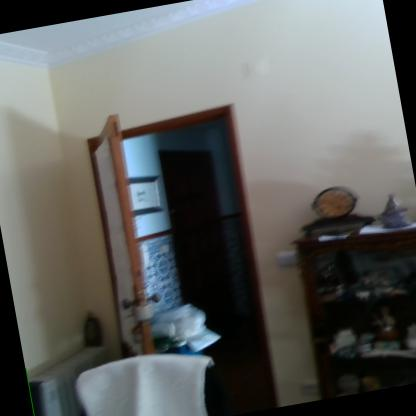semi: (70, 89, 290, 415)
